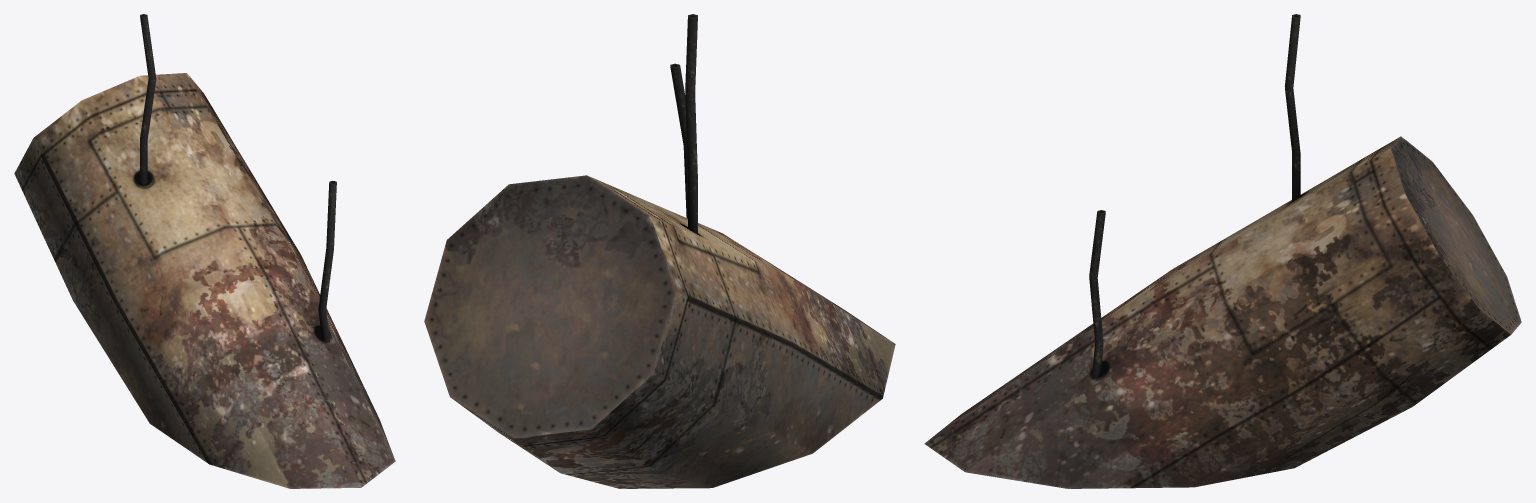
File: rubble_tank_2x3.dae
3 views of the same model, side by side, from view 1: azimuth 30°, elevation 25°; view 2: azimuth 150°, elevation 25°; view 3: azimuth 270°, elevation 25° (orthographic). The views are drawn at different scales.
Parts seen in each view (by area): view 1: rubble_tank_2x3; view 2: rubble_tank_2x3; view 3: rubble_tank_2x3.
Part boxes in pixels (x1,y1,x2,y2): rubble_tank_2x3: (14, 14, 395, 488); rubble_tank_2x3: (424, 14, 895, 488); rubble_tank_2x3: (924, 14, 1521, 488).
Bounding box in the file's own units: 3.76 × 9.19 × 6.8.
Materials: 1 (1 with a texture image).
